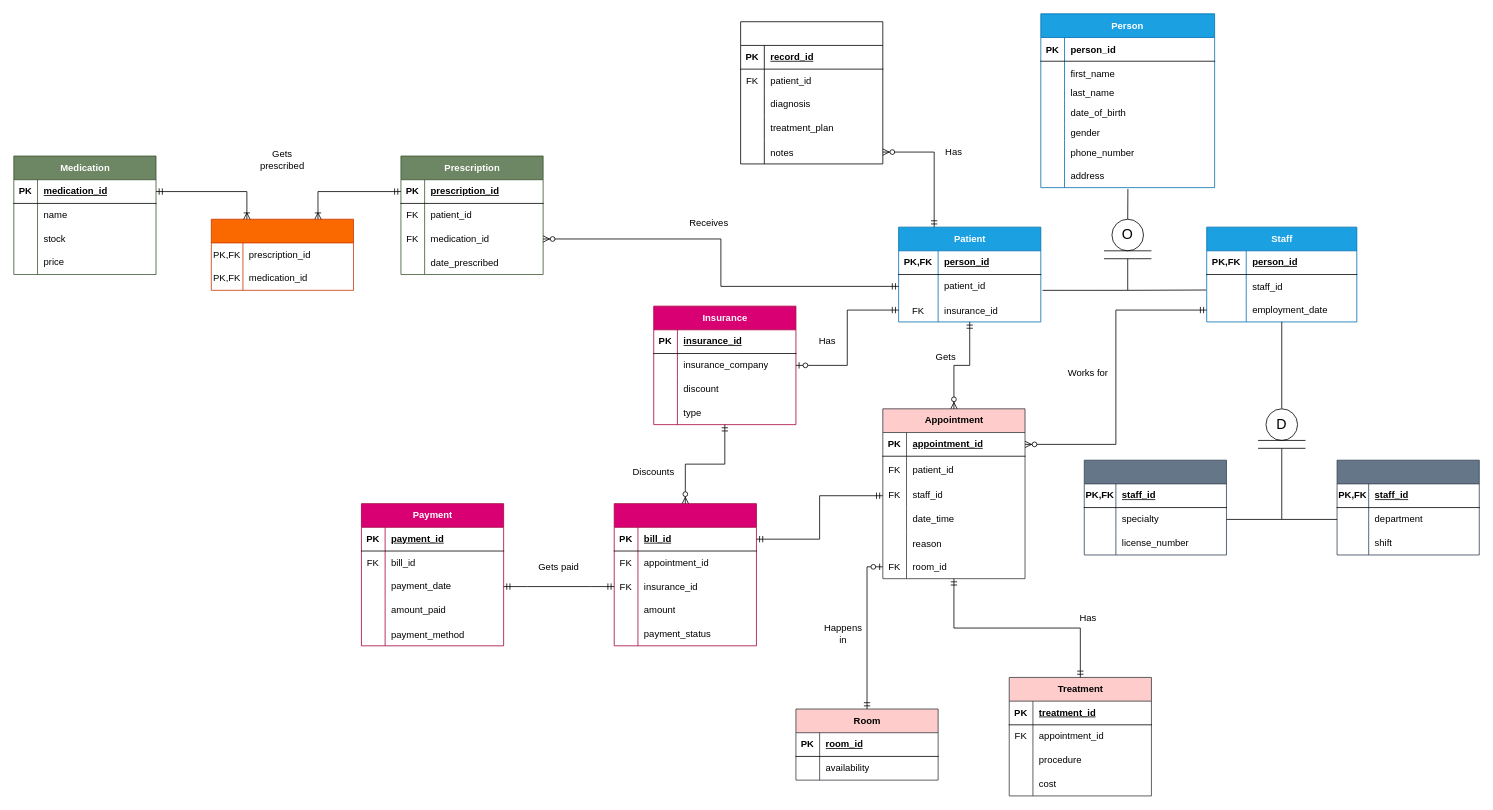
Image size: 1493x810. Some labels were removed from this diagram. The box of each missing label's shape, as (x1, y1, x2, y2) in pixels:
Billing: (613, 503, 756, 646)
Doctor: (1083, 459, 1226, 555)
Medical_Record: (740, 21, 883, 164)
Nurse: (1336, 459, 1479, 555)
Prescribed_Medications: (211, 218, 354, 290)
